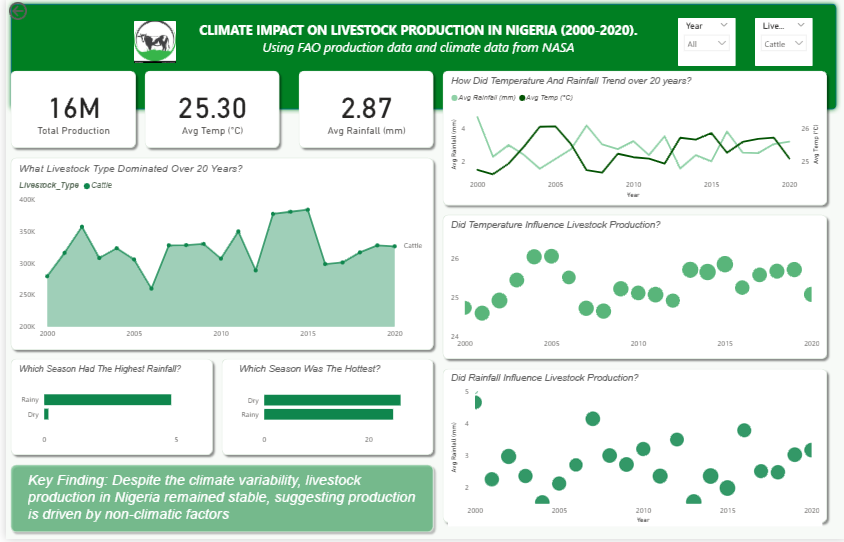

The page's visual inventory and layout, read from the dashboard file:
{"tool":"powerbi","page":{"name":"Climate & Livestock Overview","canvas":[1400,900],"ordinal":0},"visuals":[{"type":"shape","box":[0,768,720,128],"z":0},{"type":"shape","box":[0,0,1392,192],"z":1000},{"type":"shape","box":[224,112,240,144],"z":2000},{"type":"shape","box":[0,112,224,144],"z":3000},{"type":"card","fields":{"Values":["Climate_Data.Total Production"]},"box":[16,128,192,112],"z":4000},{"type":"actionButton","box":[0,0,100,40],"z":5000},{"type":"card","fields":{"Values":["Climate_Data.Avg Temp (°C)"]},"box":[240,128,208,112],"z":6000},{"type":"shape","box":[480,112,240,144],"z":7000},{"type":"card","title":"Avg Rainfall (mm)","fields":{"Values":["Climate_Data.Avg Rainfall"]},"box":[496,128,208,112],"z":8000},{"type":"shape","box":[0,256,720,336],"z":9000},{"type":"shape","box":[0,592,352,176],"z":10000},{"type":"shape","box":[352,592,368,176],"z":11000},{"type":"shape","box":[720,112,656,240],"z":12000},{"type":"shape","box":[720,352,656,256],"z":13000},{"type":"areaChart","title":"What Livestock Type Dominated Over 20 Years?","fields":{"Category":["Year_table.Year"],"Y":["Climate_Data.Total Production"],"Series":["Nigeria_Livestock_Prod_Dataset.Livestock_Type"]},"box":[16,272,688,304],"z":14000},{"type":"lineChart","title":"How Did Temperature And Rainfall Trend over 20 years?","fields":{"Category":["Year_table.Year"],"Y":["Climate_Data.Avg Rainfall"],"Y2":["Climate_Data.Avg Temp"]},"box":[736,128,624,208],"z":15000},{"type":"barChart","title":"Which Season Had The Highest Rainfall?","fields":{"Category":["Climate_Data.Season"],"Y":["Climate_Data.Avg Rainfall"]},"box":[16,608,320,144],"z":16000},{"type":"barChart","title":"Which Season Was The Hottest?","fields":{"Category":["Climate_Data.Season"],"Y":["Climate_Data.Avg Temp"]},"box":[384,608,320,144],"z":17000},{"type":"shape","box":[720,608,656,272],"z":18000},{"type":"scatterChart","title":"Did Temperature Influence Livestock Production?","fields":{"Size":["Climate_Data.Total Production"],"Y":["Climate_Data.Avg Temp"],"X":["Year_table.Year"]},"box":[736,368,624,224],"z":19000},{"type":"slicer","fields":{"Values":["Year_table.Year"]},"box":[1120,32,96,80],"z":20000},{"type":"slicer","fields":{"Values":["Nigeria_Livestock_Prod_Dataset.Livestock_Type"]},"box":[1248,32,96,80],"z":21000},{"type":"scatterChart","title":"Did Rainfall Influence Livestock Production?","fields":{"Size":["Climate_Data.Total Production"],"X":["Year_table.Year"],"Y":["Climate_Data.Avg Rainfall"]},"box":[736,624,624,256],"z":22000},{"type":"textbox","box":[304,32,768,80],"z":23000},{"type":"image","box":[208,32,80,80],"z":24000},{"type":"textbox","box":[32,784,672,96],"z":25000}]}

Visuals, with their boxes in screenshot pixels (x1, y1, x2, y2), scaled from the page's 1400x900 canvas onto the 844x542 screenshot:
shape: [left=0, top=463, right=434, bottom=540]
shape: [left=0, top=0, right=839, bottom=116]
shape: [left=135, top=67, right=280, bottom=154]
shape: [left=0, top=67, right=135, bottom=154]
card - Climate_Data.Total Production: [left=10, top=77, right=125, bottom=145]
actionButton: [left=0, top=0, right=60, bottom=24]
card - Climate_Data.Avg Temp (°C): [left=145, top=77, right=270, bottom=145]
shape: [left=289, top=67, right=434, bottom=154]
"Avg Rainfall (mm)" card: [left=299, top=77, right=424, bottom=145]
shape: [left=0, top=154, right=434, bottom=357]
shape: [left=0, top=357, right=212, bottom=463]
shape: [left=212, top=357, right=434, bottom=463]
shape: [left=434, top=67, right=830, bottom=212]
shape: [left=434, top=212, right=830, bottom=366]
"What Livestock Type Dominated Over 20 Years?" areaChart: [left=10, top=164, right=424, bottom=347]
"How Did Temperature And Rainfall Trend over 20 years?" lineChart: [left=444, top=77, right=820, bottom=202]
"Which Season Had The Highest Rainfall?" barChart: [left=10, top=366, right=203, bottom=453]
"Which Season Was The Hottest?" barChart: [left=231, top=366, right=424, bottom=453]
shape: [left=434, top=366, right=830, bottom=530]
"Did Temperature Influence Livestock Production?" scatterChart: [left=444, top=222, right=820, bottom=357]
slicer - Year_table.Year: [left=675, top=19, right=733, bottom=67]
slicer - Nigeria_Livestock_Prod_Dataset.Livestock_Type: [left=752, top=19, right=810, bottom=67]
"Did Rainfall Influence Livestock Production?" scatterChart: [left=444, top=376, right=820, bottom=530]
textbox: [left=183, top=19, right=646, bottom=67]
image: [left=125, top=19, right=174, bottom=67]
textbox: [left=19, top=472, right=424, bottom=530]
